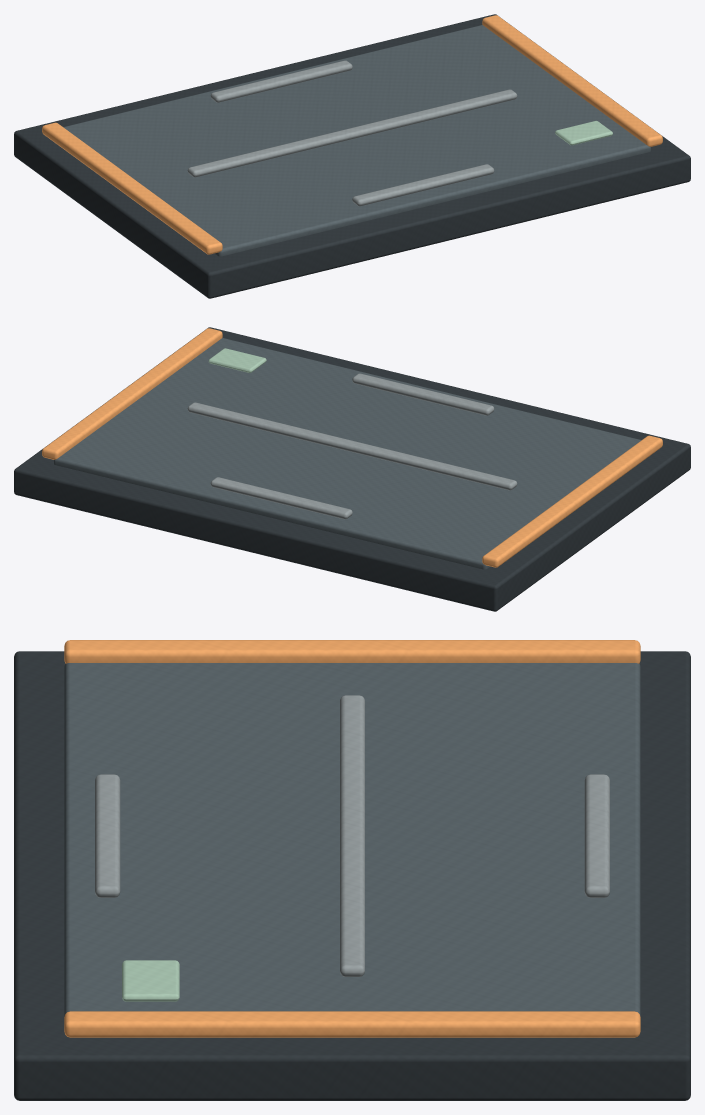
Rendered from FloorDeconMat.glb.
The picture shows the model from 3 angles, top to bottom: view 1: azimuth 30°, elevation 25°; view 2: azimuth 150°, elevation 25°; view 3: azimuth 270°, elevation 25°; orthographic projection. The views are drawn at different scales.
Parts seen in each view (by area): view 1: FloorDeconMat_Mesh; view 2: FloorDeconMat_Mesh; view 3: FloorDeconMat_Mesh.
Part boxes in pixels (bbox=[...]): FloorDeconMat_Mesh: bbox=[14, 14, 690, 298]; FloorDeconMat_Mesh: bbox=[14, 327, 690, 611]; FloorDeconMat_Mesh: bbox=[14, 640, 690, 1100].
Bounding box in the file's own units: 1.34 × 0.105 × 0.94.
Materials: 5 (5 with a texture image).
